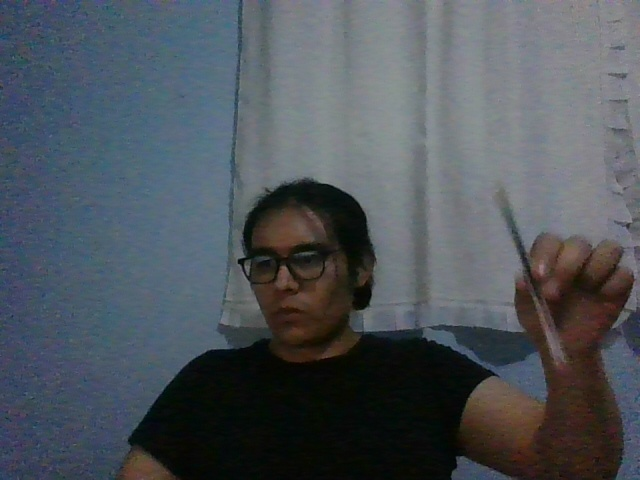pluma: (492, 180, 571, 373)
